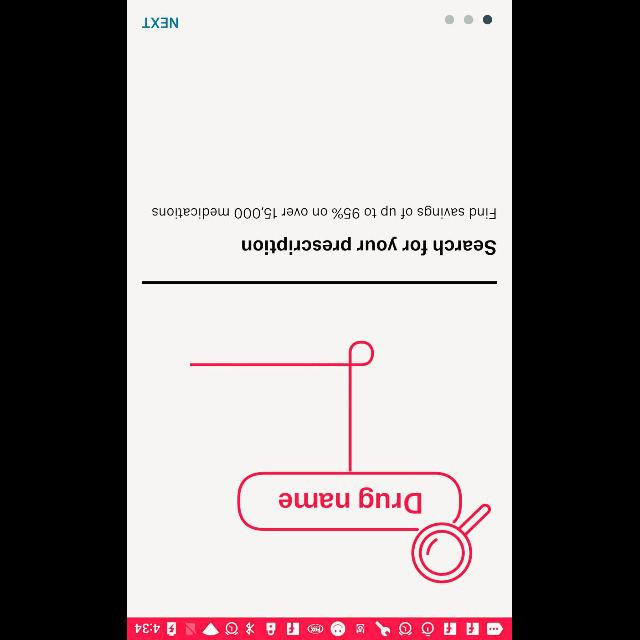image: (190, 341, 492, 584)
pageindicator: (445, 14, 493, 26)
text: (242, 237, 498, 256), (153, 206, 497, 220), (143, 17, 179, 28)
uppertaskbar: (128, 617, 512, 639)
